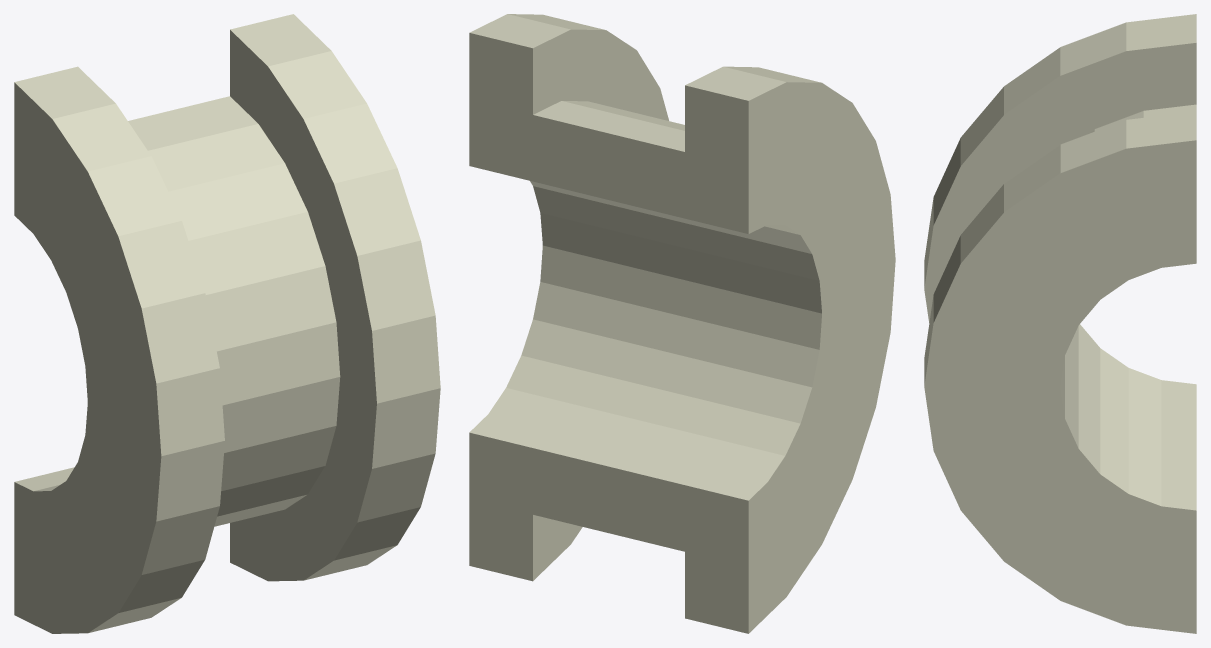
Rendered from section_154.obj.
The picture shows the model from 3 angles, left to right: view 1: azimuth 30°, elevation 25°; view 2: azimuth 150°, elevation 25°; view 3: azimuth 270°, elevation 25°; orthographic projection. The views are drawn at different scales.
Bounding box in the file's own units: 4.39 × 8 × 4.
